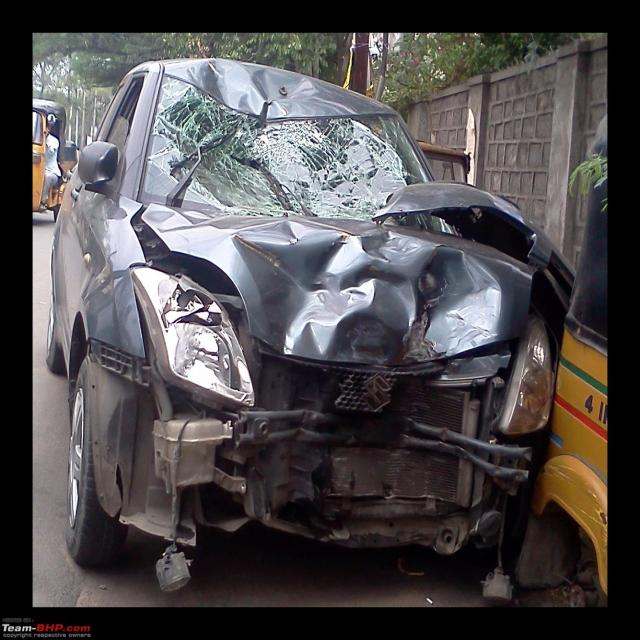crush: (88, 57, 579, 554)
